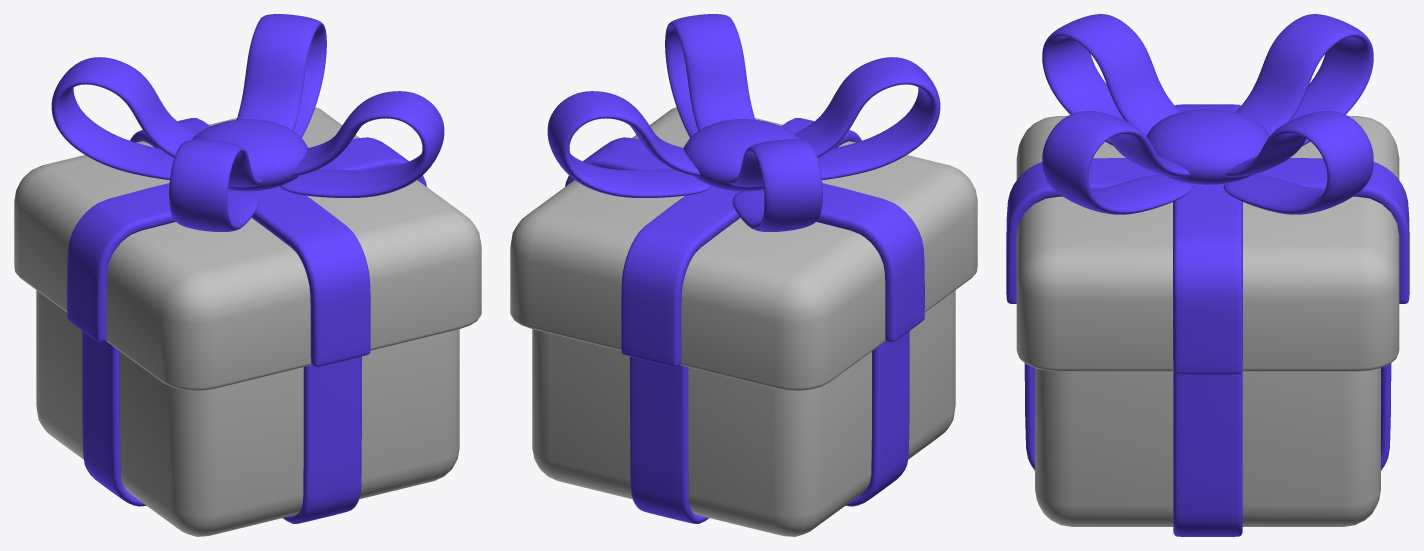
File: reward-animated-3d-icon-355021267936.glb
3 renders of one model, left to right at view 1: azimuth 30°, elevation 25°; view 2: azimuth 150°, elevation 25°; view 3: azimuth 270°, elevation 25°, orthographic. The views are drawn at different scales.
Parts seen in each view (by area): view 1: Upper Box, Lower Box, Main Tape, Upper Tape, Lower Tape; view 2: Upper Box, Lower Box, Main Tape, Upper Tape, Lower Tape; view 3: Upper Box, Main Tape, Lower Box, Upper Tape, Lower Tape.
Boxes of the visible parts, box(x1,y1,x2,y2) form: Upper Box: box(14, 107, 481, 390); Lower Box: box(36, 290, 459, 536); Main Tape: box(51, 14, 444, 231); Upper Tape: box(67, 118, 426, 366); Lower Tape: box(82, 331, 361, 523); Upper Box: box(510, 107, 977, 390); Lower Box: box(532, 290, 955, 536); Main Tape: box(547, 14, 940, 231); Upper Tape: box(565, 118, 924, 366); Lower Tape: box(630, 331, 909, 523); Upper Box: box(1016, 116, 1399, 371); Main Tape: box(1042, 14, 1373, 214); Lower Box: box(1035, 368, 1380, 526); Upper Tape: box(1006, 104, 1409, 374); Lower Tape: box(1024, 363, 1391, 536).
Bounding box in the file's own units: 1.66 × 1.84 × 1.66.
